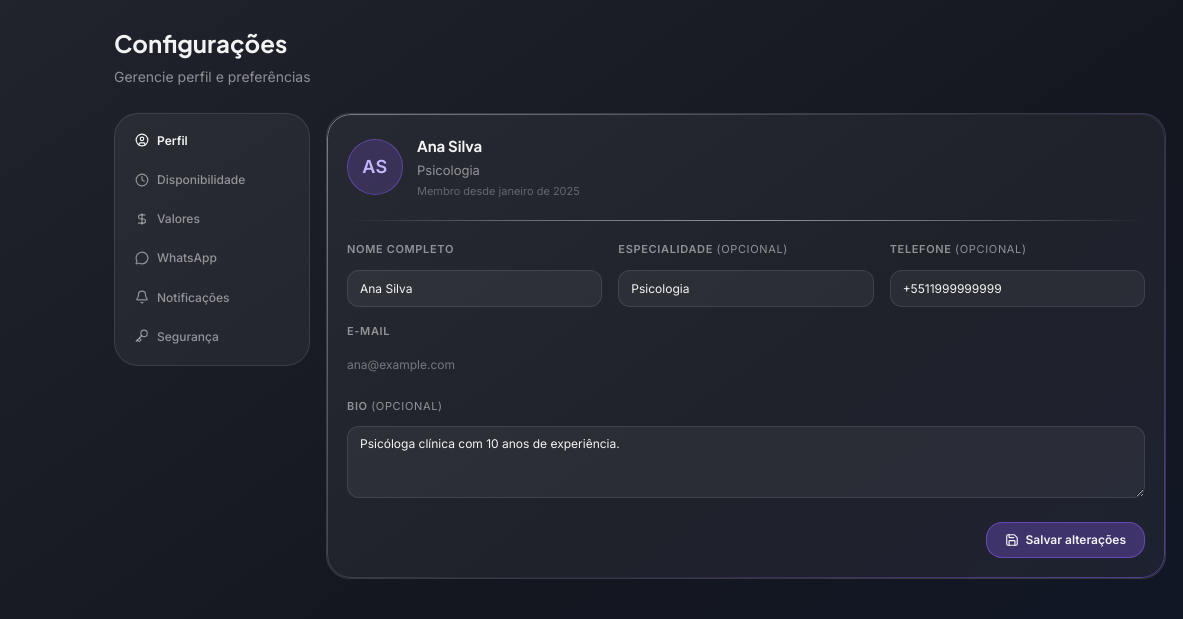
Test: SettingsPage › exibe erro de validação ao tentar salvar full_name com menos de 2 caracteres
Replace the text in the field showing "Ana Silva" with "A" at coordinates (475, 288), box left=347, top=270, right=602, bottom=307
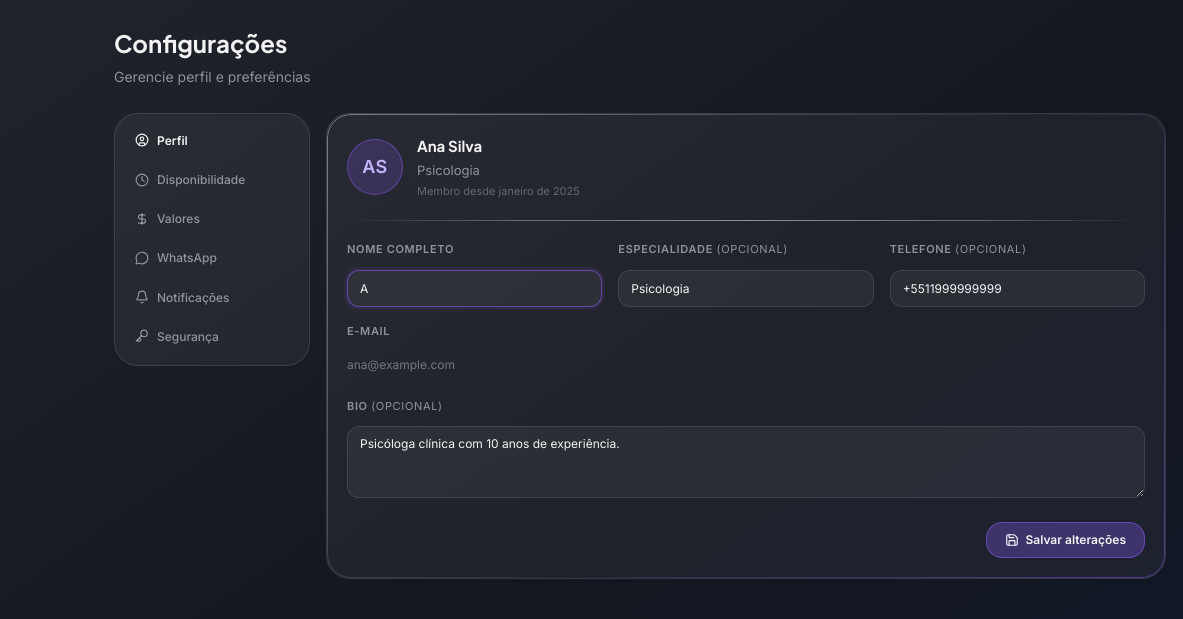
Click the button "Salvar alterações".
click(1066, 540)  # box left=986, top=522, right=1145, bottom=558
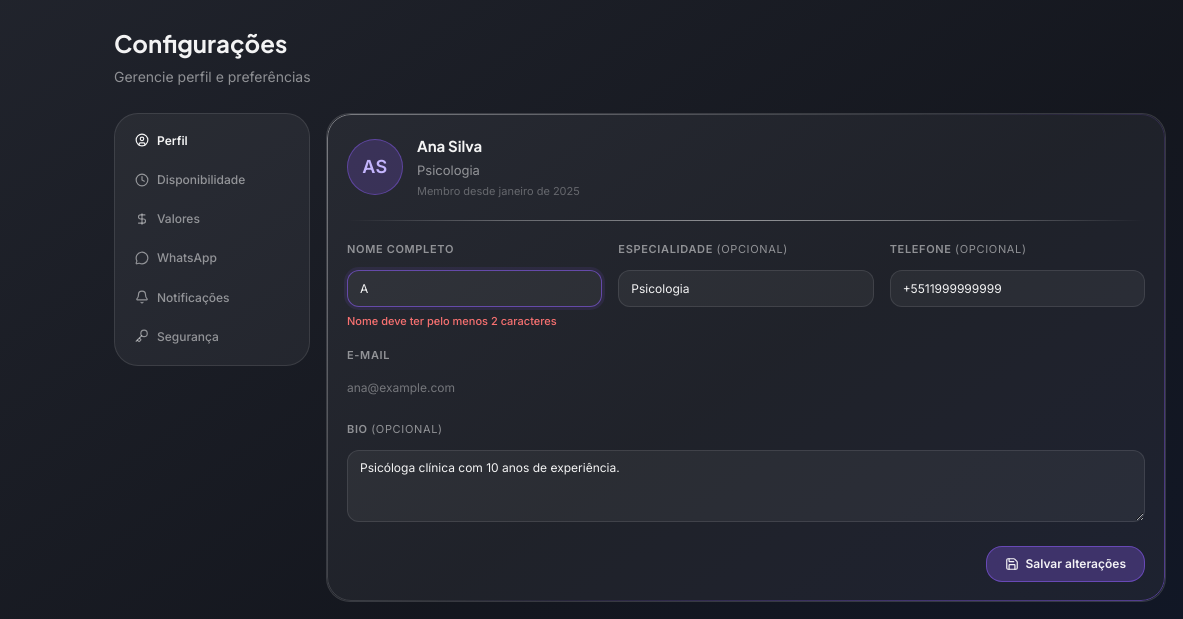
Now the text "Nome deve ter pelo menos 2 caracteres" is shown, box left=347, top=314, right=557, bottom=328
